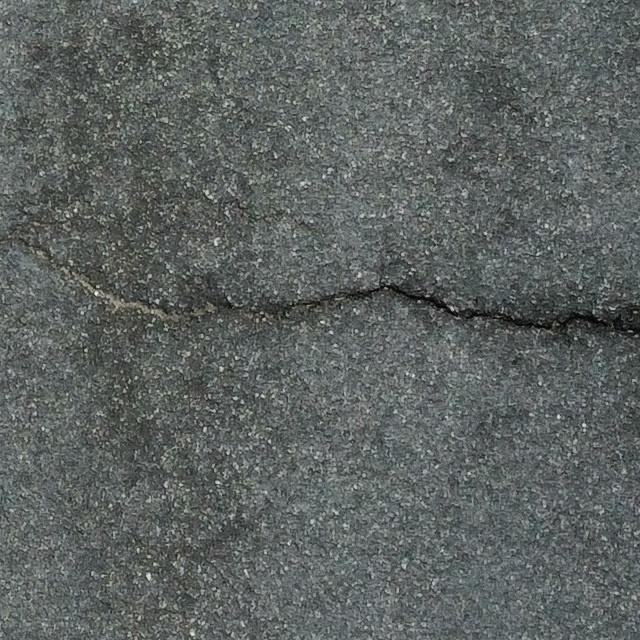TransverseCrack: (3, 237, 640, 334)
